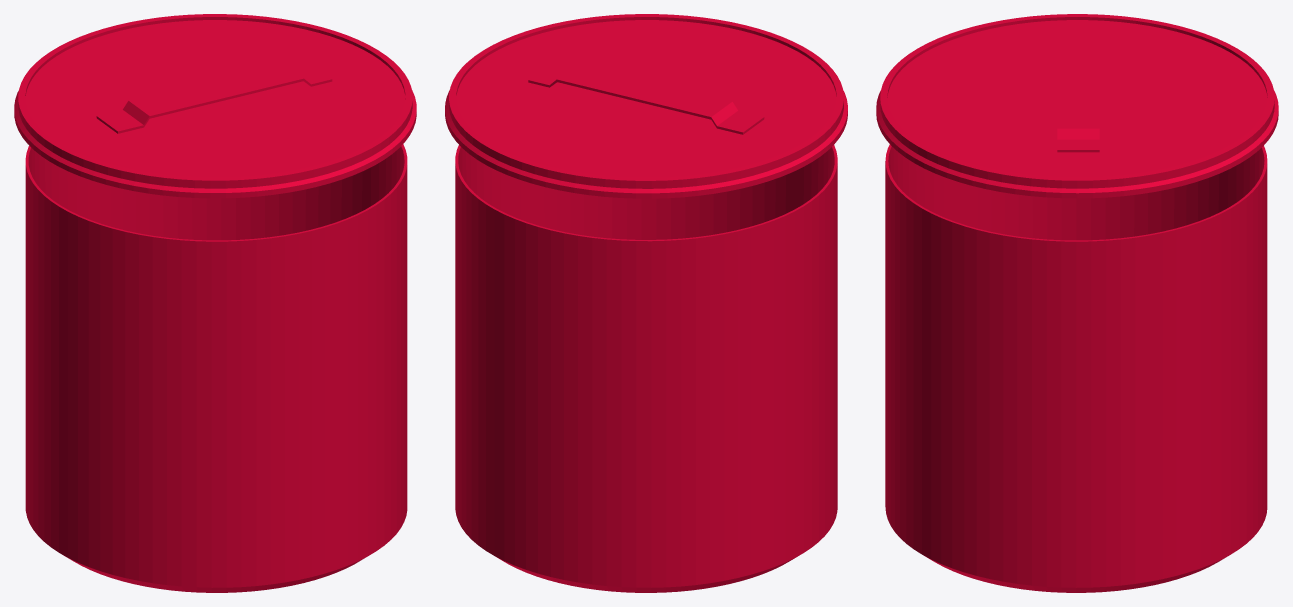
Rendered from big-pot-yatai.fbx.
The picture shows the model from 3 angles, left to right: view 1: azimuth 30°, elevation 25°; view 2: azimuth 150°, elevation 25°; view 3: azimuth 270°, elevation 25°; orthographic projection.
Parts seen in each view (by area): view 1: Cylinder.001, Cylinder.002; view 2: Cylinder.001, Cylinder.002; view 3: Cylinder.001, Cylinder.002.
Part boxes in pixels (x1=…): Cylinder.001: x1=25, y1=144, x2=407, y2=592; Cylinder.002: x1=14, y1=14, x2=416, y2=198; Cylinder.001: x1=455, y1=145, x2=837, y2=592; Cylinder.002: x1=445, y1=14, x2=847, y2=198; Cylinder.001: x1=885, y1=144, x2=1267, y2=592; Cylinder.002: x1=876, y1=14, x2=1278, y2=198.
Size of the model in its own units: 161 by 189 by 161.
